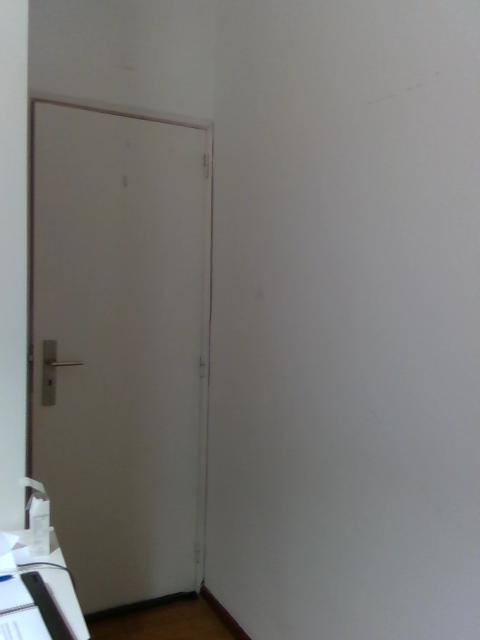door: (21, 89, 207, 618)
